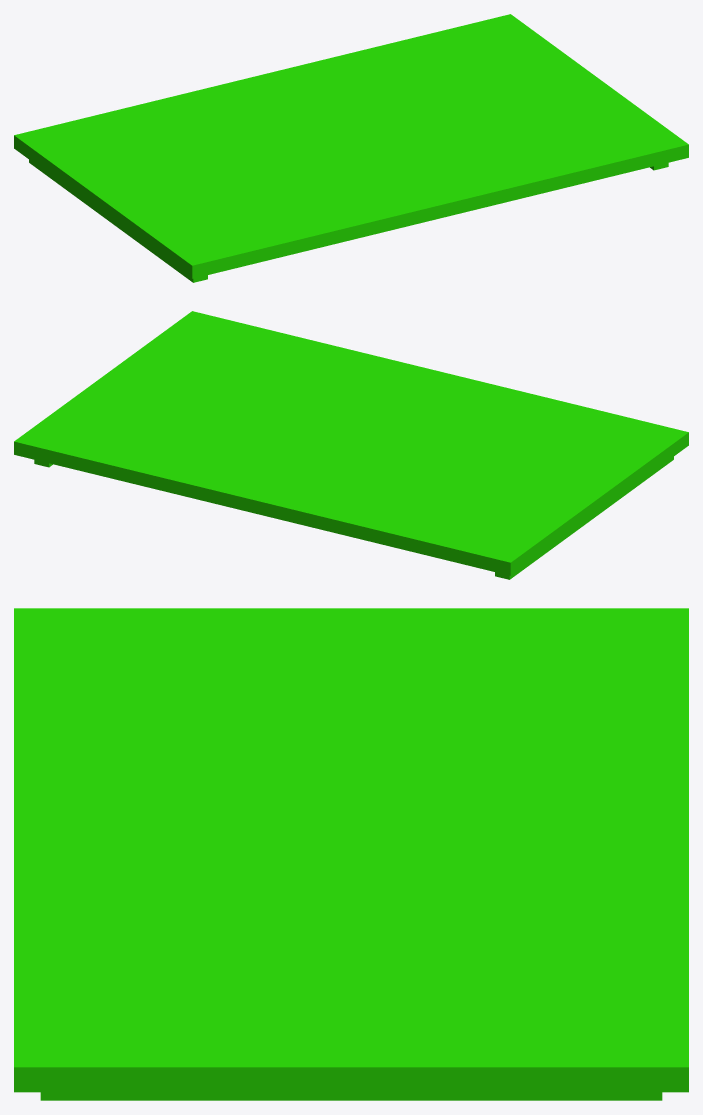
The model's file is Woodbox_02_Lid_Lod0.fbx.
The picture shows the model from 3 angles, top to bottom: view 1: azimuth 30°, elevation 25°; view 2: azimuth 150°, elevation 25°; view 3: azimuth 270°, elevation 25°; orthographic projection. The views are drawn at different scales.
Parts seen in each view (by area): view 1: Woodbox_02_Lid_Lod0; view 2: Woodbox_02_Lid_Lod0; view 3: Woodbox_02_Lid_Lod0.
Boxes of the visible parts, x1,y1,x2,y2 form: Woodbox_02_Lid_Lod0: (14,14,688,282); Woodbox_02_Lid_Lod0: (14,311,688,579); Woodbox_02_Lid_Lod0: (14,608,688,1100).
Size of the model in its own units: 52.79 by 2.46 by 32.81.
